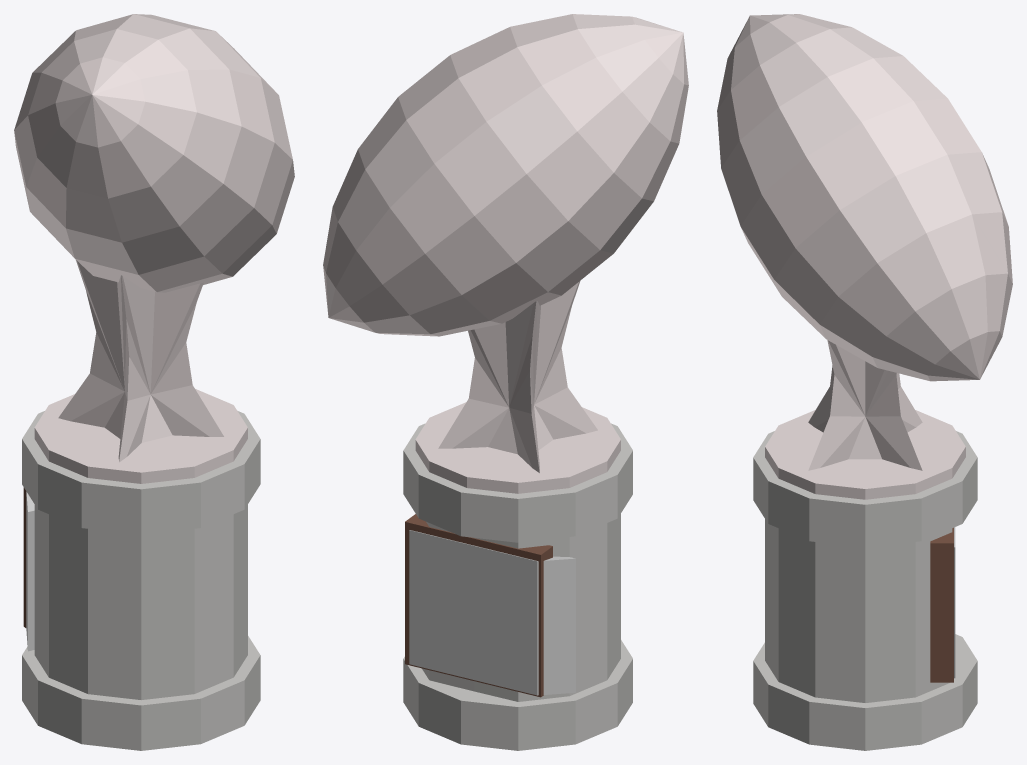
The model's file is wurd_trophy.glb.
The picture shows the model from 3 angles, left to right: view 1: azimuth 30°, elevation 25°; view 2: azimuth 150°, elevation 25°; view 3: azimuth 270°, elevation 25°; orthographic projection. The views are drawn at different scales.
Parts seen in each view (by area): view 1: group1404036289, group1617515226, group1272488227, group334481531, group1148787079, group383699054, Plate, group287719413; view 2: group1404036289, Plate, group1272488227, group334481531, group1148787079, group383699054, group1617515226, group287719413; view 3: group1404036289, group1617515226, group1148787079, group334481531, group383699054, group1272488227, group287719413.
Part boxes in pixels (<box>): group1404036289: <box>14,14,294,292</box>; group1617515226: <box>34,504,247,699</box>; group1272488227: <box>58,260,223,462</box>; group334481531: <box>22,411,260,534</box>; group1148787079: <box>22,636,260,750</box>; group383699054: <box>34,389,247,483</box>; Plate: <box>26,492,34,651</box>; group287719413: <box>23,487,26,627</box>; group1404036289: <box>323,14,688,336</box>; Plate: <box>409,530,575,695</box>; group1272488227: <box>438,281,597,472</box>; group334481531: <box>403,423,632,542</box>; group1148787079: <box>403,640,632,750</box>; group383699054: <box>415,402,620,493</box>; group1617515226: <box>422,514,620,701</box>; group287719413: <box>405,514,552,697</box>; group1404036289: <box>717,14,1012,381</box>; group1617515226: <box>765,519,952,702</box>; group1148787079: <box>753,634,977,750</box>; group334481531: <box>753,431,977,547</box>; group383699054: <box>765,410,965,499</box>; group1272488227: <box>808,340,922,470</box>; group287719413: <box>930,527,953,682</box>.
Bounding box in the file's own units: 3.72 × 8.59 × 3.52.
